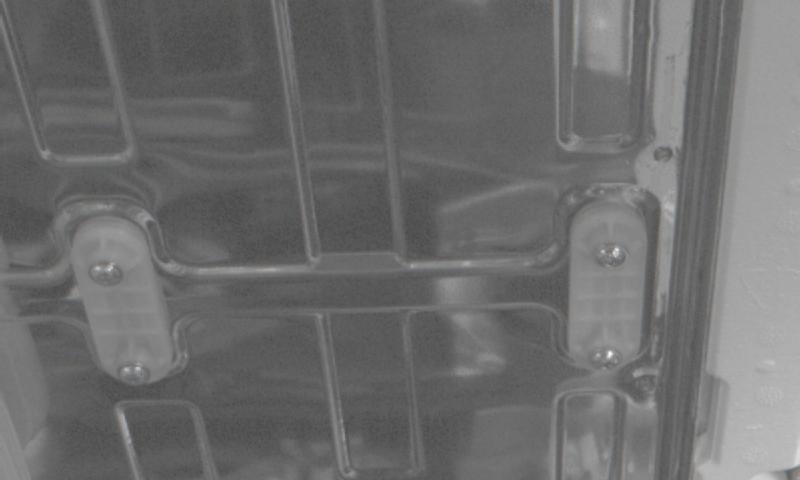vida-ok: (594, 232, 638, 277), (87, 249, 127, 294), (112, 350, 154, 390), (587, 340, 627, 378)
